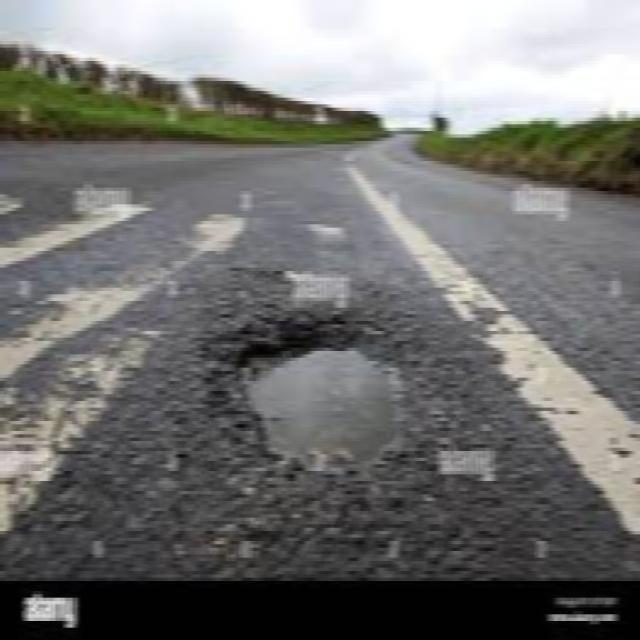Pothole: (202, 303, 428, 493)
